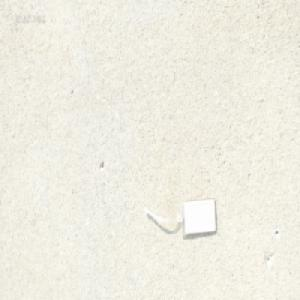LuggageTag: (143, 195, 217, 238)
